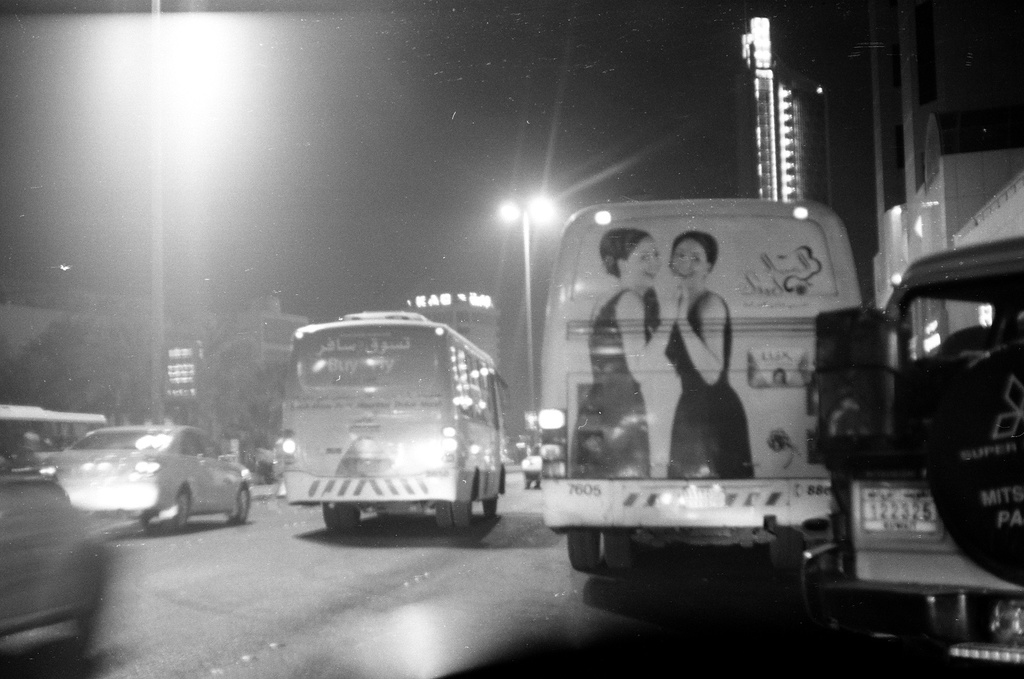Car: (0, 422, 110, 658), (45, 423, 254, 531)
